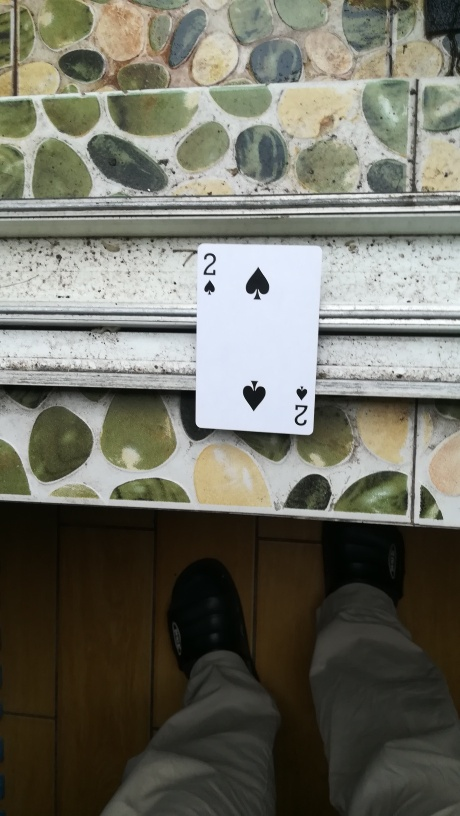ht 2: (192, 239, 324, 439)
